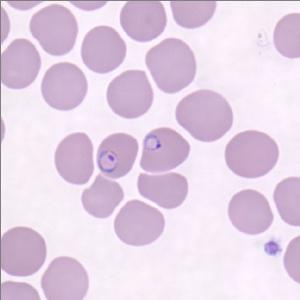Infected: (141, 125, 190, 173), (96, 133, 140, 179)
Uninfected: (175, 87, 233, 143), (145, 38, 196, 94), (223, 129, 278, 179), (28, 5, 79, 56), (105, 69, 153, 119), (55, 130, 97, 186), (115, 199, 164, 246), (0, 226, 46, 276), (226, 189, 274, 236), (1, 36, 42, 90), (42, 61, 85, 111), (135, 170, 188, 210), (41, 256, 89, 300), (81, 25, 125, 72), (82, 175, 125, 219), (119, 1, 166, 40), (169, 0, 217, 30), (272, 11, 300, 61)
